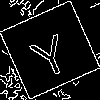Y: (25, 25, 74, 81)
